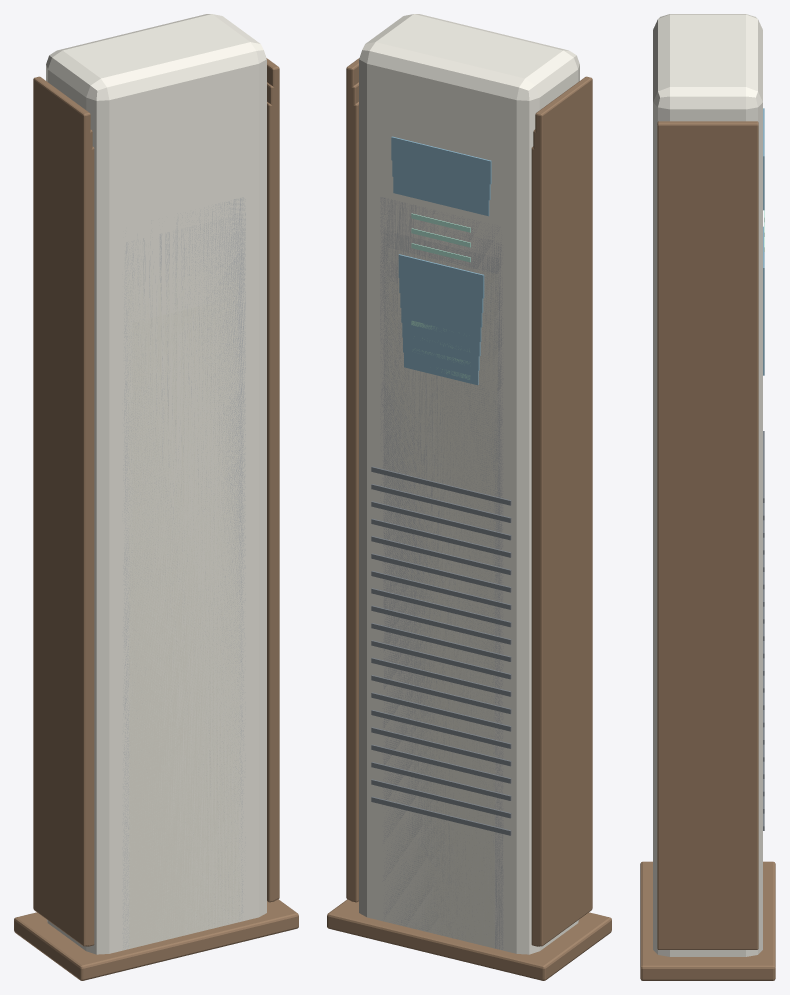
The model's file is Gear19.fbx.
3 renders of one model, left to right at view 1: azimuth 30°, elevation 25°; view 2: azimuth 150°, elevation 25°; view 3: azimuth 270°, elevation 25°, orthographic.
Parts seen in each view (by area): view 1: Gear19_V10_Linen, Gear19_V10_Walnut, Gear19_V3_Ivory, Gear19_V8_Linen, Gear19_V1_Ivory, Gear19_V4_Ivory, Gear19_V8_Walnut, Gear19_V9_Linen, Gear19_V9_Walnut, Gear19_V6_BrushedSteel, Gear19_V5_BrushedSteel, Gear19_V2_Ivory (+1 smaller); view 2: Gear19_V10_Linen, Gear19_V10_Walnut, Gear19_V2_Ivory, Gear19_V1_Ivory, Gear19_V8_Linen, Gear19_V9_Linen, Gear19_V5_BrushedSteel, Gear19_V8_Walnut, Gear19_V10_Graphite, Gear19_V7_BrushedSteel, Gear19_V4_Ivory, Gear19_V9_Walnut (+21 smaller); view 3: Gear19_V10_Walnut, Gear19_V10_Linen, Gear19_V10_Graphite.
Part boxes in pixels (x1,y1,x2,y2): Gear19_V10_Linen: (46,14,266,954); Gear19_V10_Walnut: (14,58,298,980); Gear19_V3_Ivory: (129,265,239,948); Gear19_V8_Linen: (113,101,255,951); Gear19_V1_Ivory: (132,299,235,947); Gear19_V4_Ivory: (127,251,240,927); Gear19_V8_Walnut: (88,102,275,946); Gear19_V9_Linen: (111,82,256,953); Gear19_V9_Walnut: (86,82,277,946); Gear19_V6_BrushedSteel: (124,213,243,945); Gear19_V5_BrushedSteel: (127,230,242,922); Gear19_V2_Ivory: (131,280,237,948); Gear19_V10_Linen: (359,14,579,954); Gear19_V10_Walnut: (327,58,611,980); Gear19_V2_Ivory: (388,281,494,948); Gear19_V1_Ivory: (390,299,493,947); Gear19_V8_Linen: (370,102,512,952); Gear19_V9_Linen: (369,82,514,953); Gear19_V5_BrushedSteel: (383,230,499,948); Gear19_V8_Walnut: (350,102,537,946); Gear19_V10_Graphite: (371,466,511,835); Gear19_V7_BrushedSteel: (380,197,503,949); Gear19_V4_Ivory: (385,248,498,924); Gear19_V9_Walnut: (348,82,539,946); Gear19_V10_Walnut: (640,121,775,980); Gear19_V10_Linen: (653,14,762,956); Gear19_V10_Graphite: (763,431,764,830).
Bounding box in the file's own units: 59.29 × 229 × 32.
